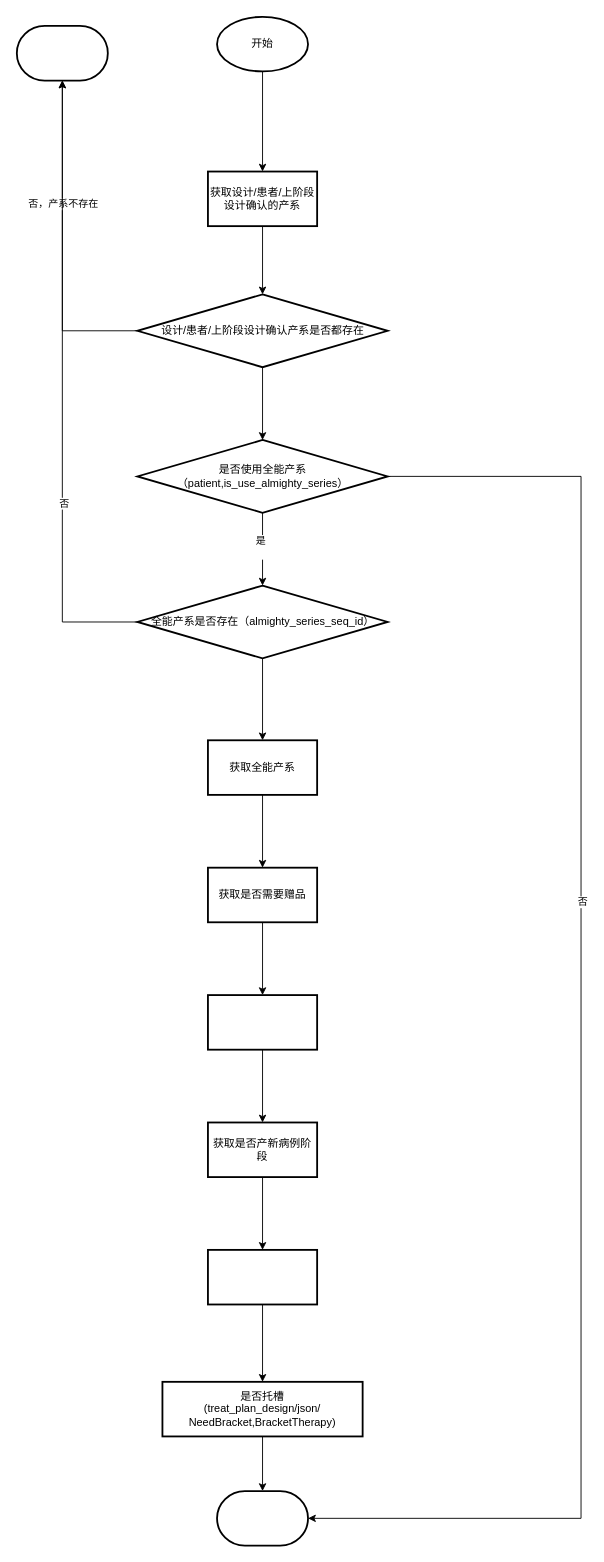
The diagram is 604 pixels wide and 1562 high, and some of its shapes have lost their labels. Each missing label, with the centre of its shape:
"报错" belongs at point (61, 53).
"结束" belongs at point (262, 1518).
"获取是否产系升级 是否同组产系" belongs at point (262, 1022).
"获取设计详情" belongs at point (262, 1277).
